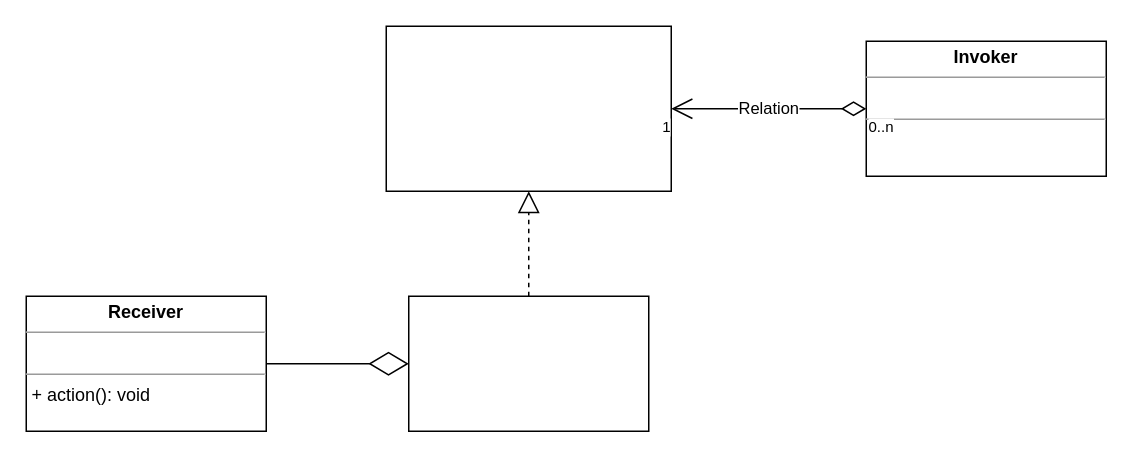
Some shapes in this 1133 by 458 pixel diagram are drawn without their labels. Here are the shapes that lost their labels. From the top down, the box of each, then its label:
(385, 25, 671, 191): <<Interface>> Command + execute(): void
(407, 295, 649, 431): ConcreteCommand + receiver: Receiver + execute(): void
